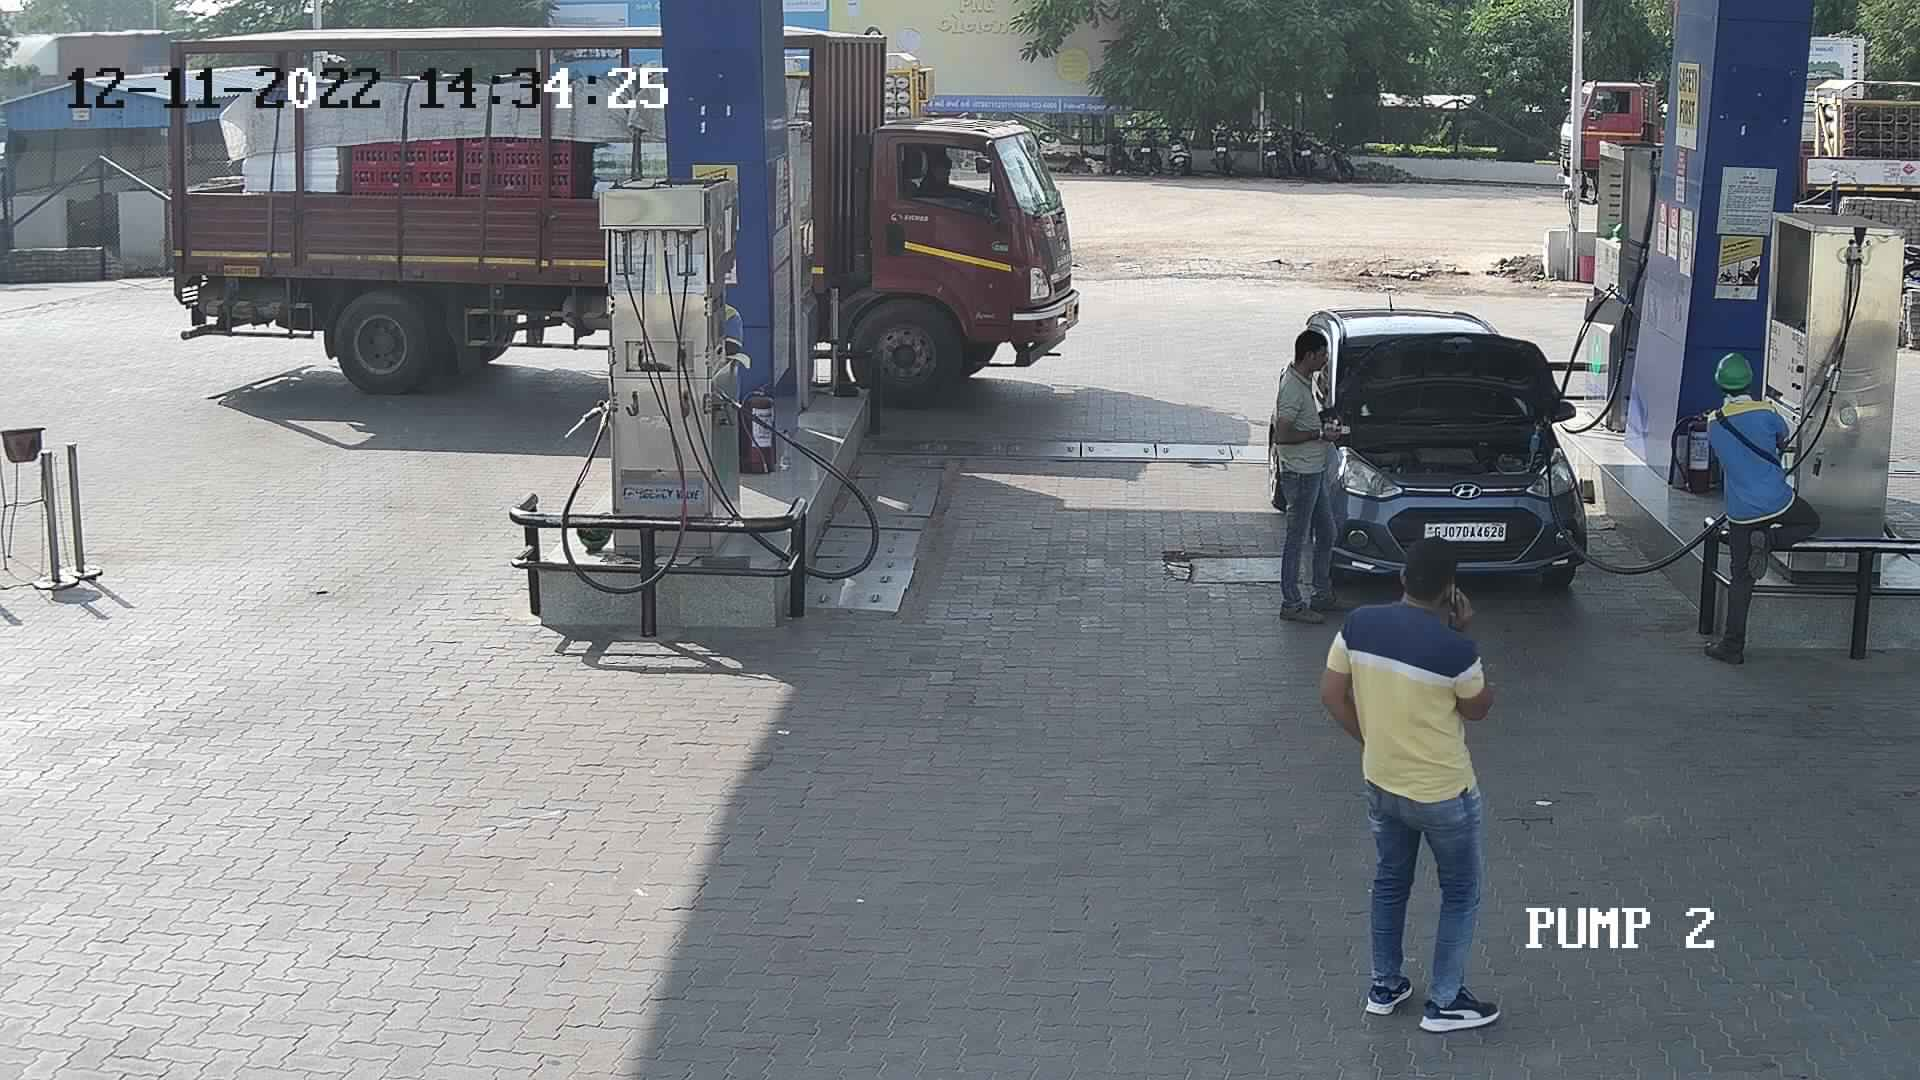Bike: (1304, 113, 1365, 185), (1251, 98, 1292, 185), (1093, 107, 1138, 175), (1286, 111, 1327, 186), (1162, 113, 1203, 186), (1203, 113, 1241, 182), (1127, 116, 1171, 175)
Car: (1254, 294, 1607, 603)
HMV: (779, 13, 1083, 417), (1538, 59, 1673, 212), (1797, 57, 1913, 215), (872, 41, 944, 135)
Others: (1684, 345, 1825, 667)
